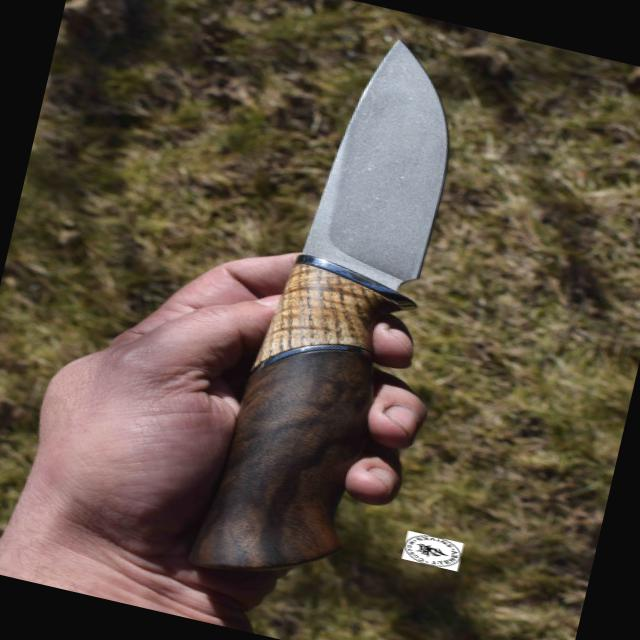knife: (143, 0, 501, 514)
